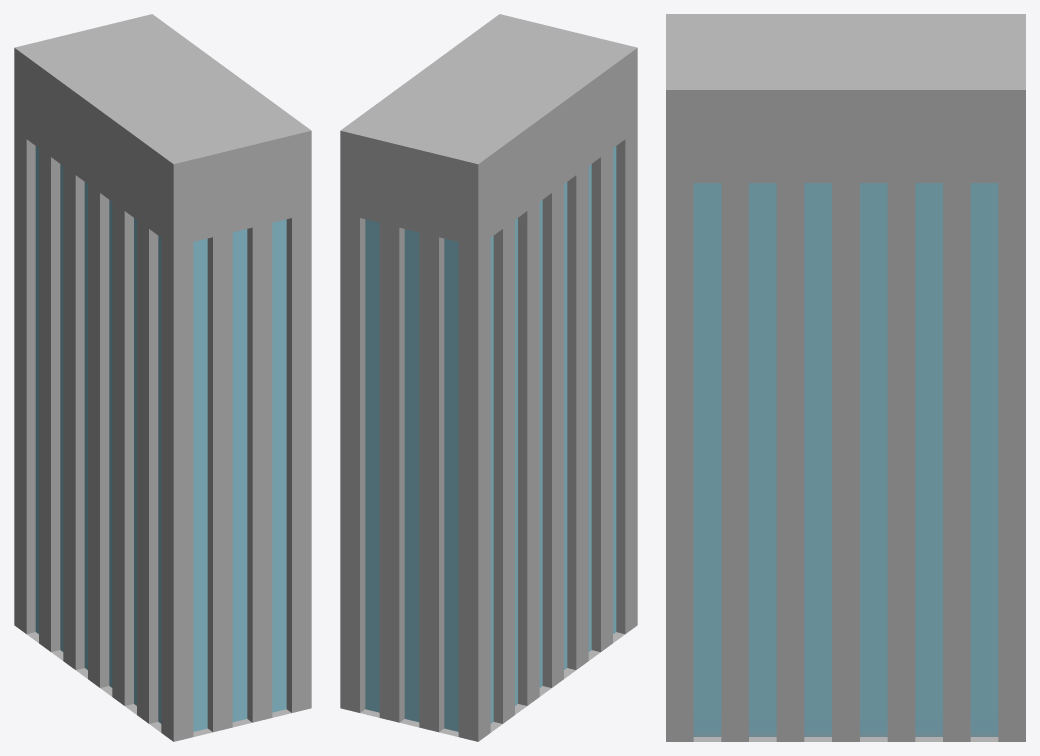
The picture shows the model from 3 angles, left to right: view 1: azimuth 30°, elevation 25°; view 2: azimuth 150°, elevation 25°; view 3: azimuth 270°, elevation 25°; orthographic projection. The views are drawn at different scales.
Visible parts, largest first — view 1: 建築1; view 2: 建築1; view 3: 建築1.
Part boxes in pixels (bbox=[...]): 建築1: bbox=[14, 14, 311, 741]; 建築1: bbox=[340, 14, 637, 741]; 建築1: bbox=[666, 14, 1025, 741].
Bounding box in the file's own units: 75 × 300 × 150.
Materials: 1 (1 with a texture image).
